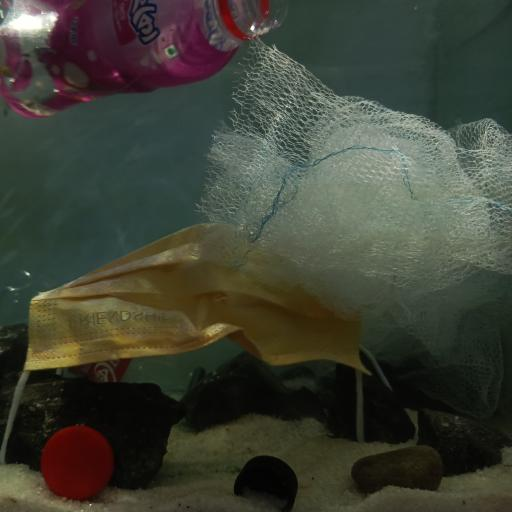bottle_cap: (42, 426, 115, 500), (234, 455, 298, 512)
mask: (5, 224, 395, 424)
net: (197, 37, 512, 421)
plastic_bottle: (0, 0, 286, 120), (0, 263, 208, 399)
